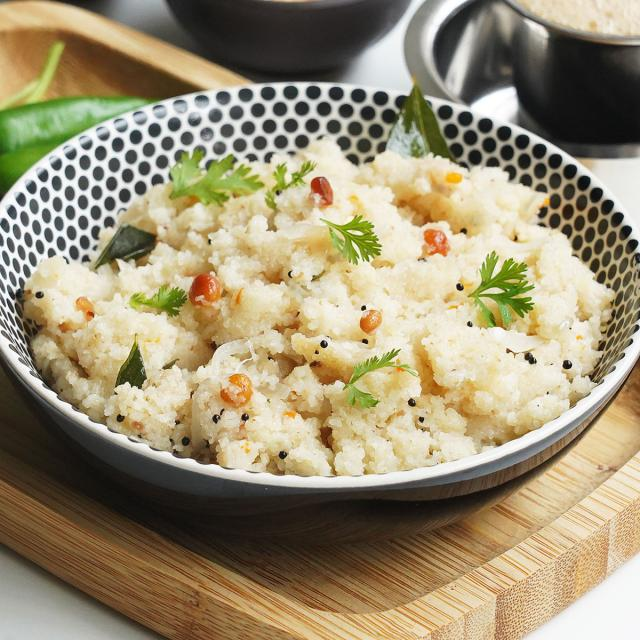UPMA: (22, 138, 608, 483)
